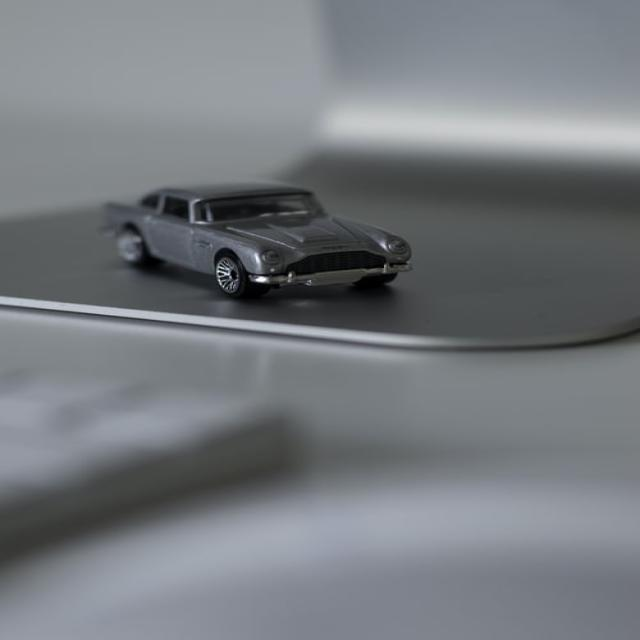Car: (101, 180, 412, 298)
